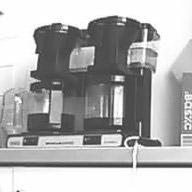not empty coffee: (81, 73, 139, 136), (25, 77, 78, 135)
